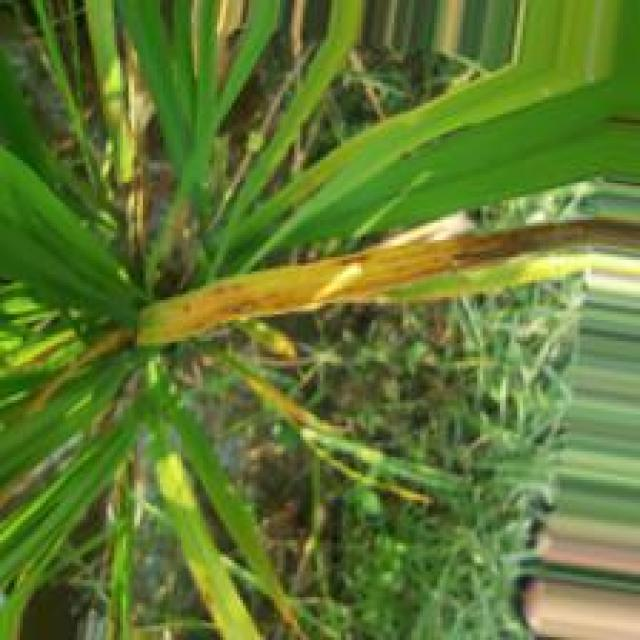Leaf_Blast: (453, 216, 640, 267)
